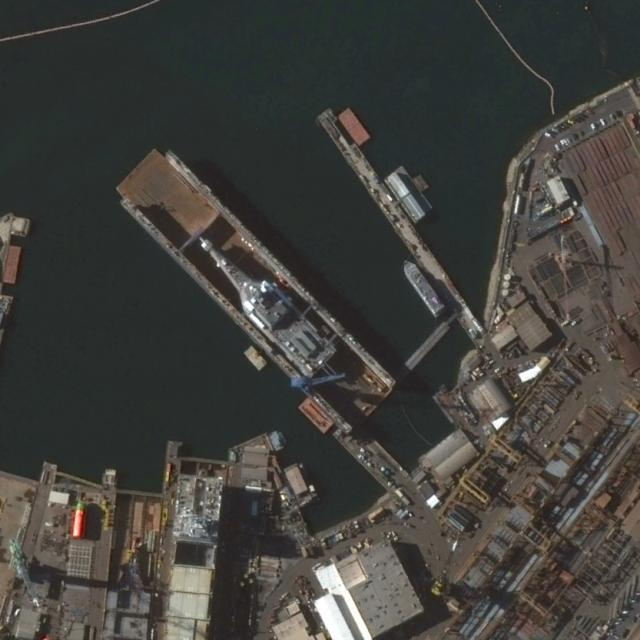Other Ship: (187, 218, 339, 380)
Other Warship: (399, 256, 448, 320)
